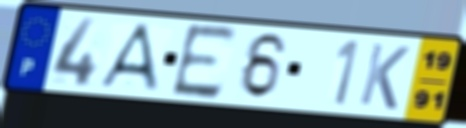1: (333, 39, 362, 110)
4: (48, 15, 103, 90)
6: (236, 31, 288, 102)
A: (95, 21, 162, 94)
E: (168, 21, 241, 101)
K: (356, 40, 413, 113)
